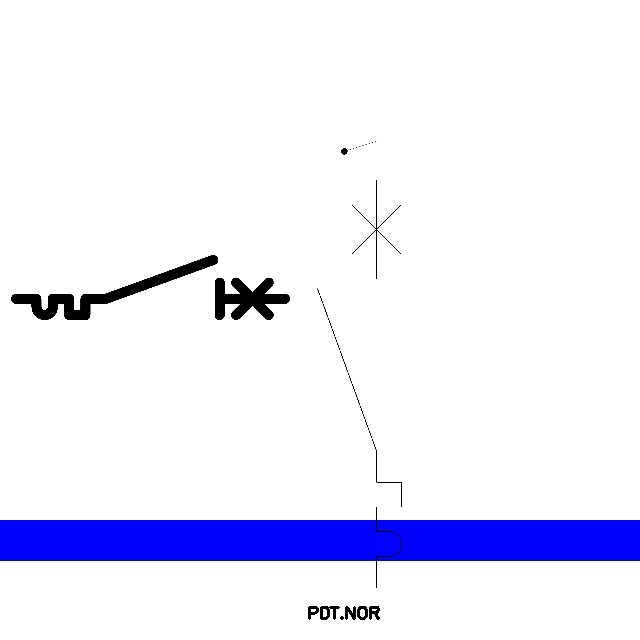interruptor_termomagnetico: (307, 169, 412, 598), (9, 253, 292, 322)
